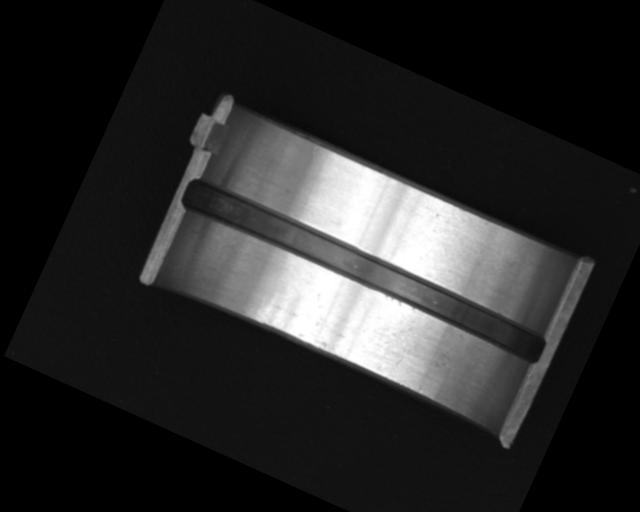gap: (174, 172, 552, 370)
